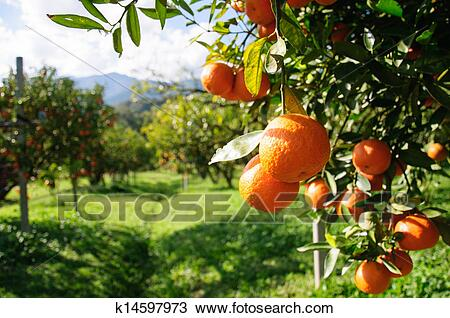orange: (260, 113, 328, 182), (238, 150, 301, 210), (396, 212, 437, 250), (353, 139, 391, 176), (354, 257, 390, 291), (337, 188, 371, 222), (236, 69, 269, 100), (380, 248, 414, 277), (201, 61, 232, 91), (305, 177, 329, 208), (244, 1, 277, 20), (255, 22, 278, 39)
